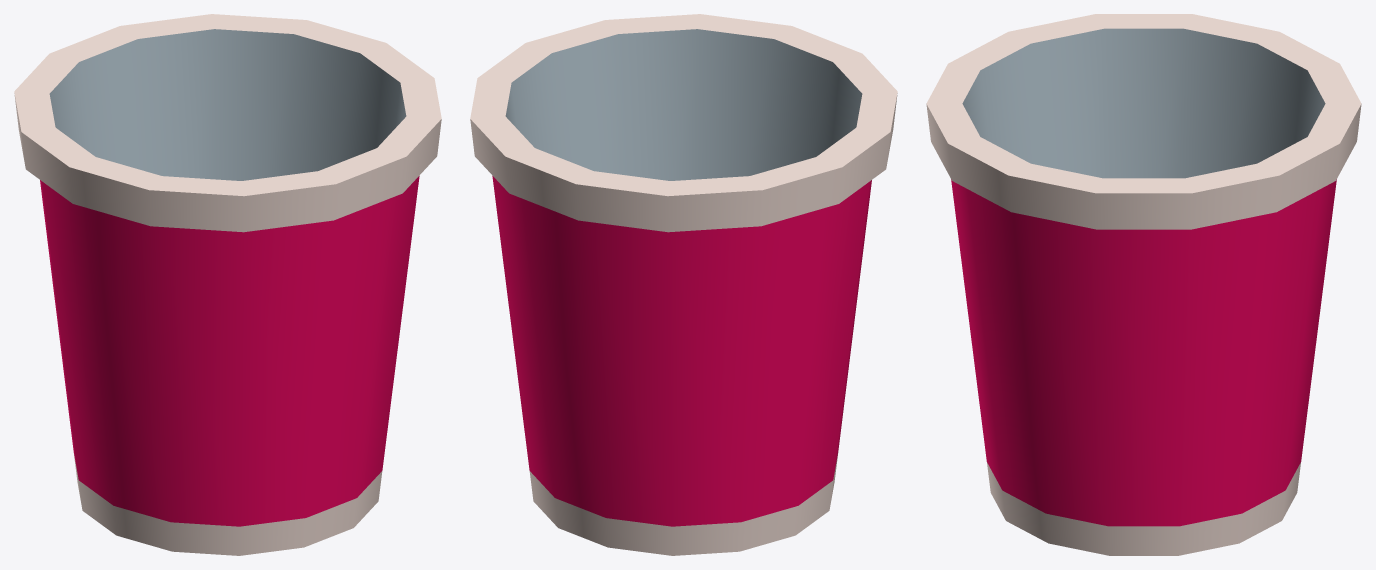
The model's file is Stock_Cup_geo.fbx.
The picture shows the model from 3 angles, left to right: view 1: azimuth 30°, elevation 25°; view 2: azimuth 150°, elevation 25°; view 3: azimuth 270°, elevation 25°; orthographic projection.
Parts seen in each view (by area): view 1: Stock_Cup_geo; view 2: Stock_Cup_geo; view 3: Stock_Cup_geo.
Part boxes in pixels (x1,y1,x2,y2): Stock_Cup_geo: (14, 14, 441, 555); Stock_Cup_geo: (470, 14, 897, 555); Stock_Cup_geo: (926, 14, 1361, 555).
Bounding box in the file's own units: 0.4294 × 0.4405 × 0.4347.
